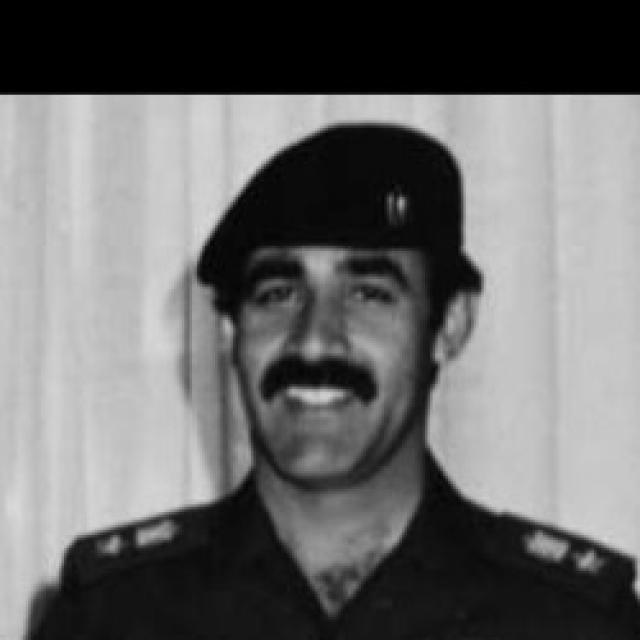real: (204, 150, 452, 486), (236, 260, 412, 326)
